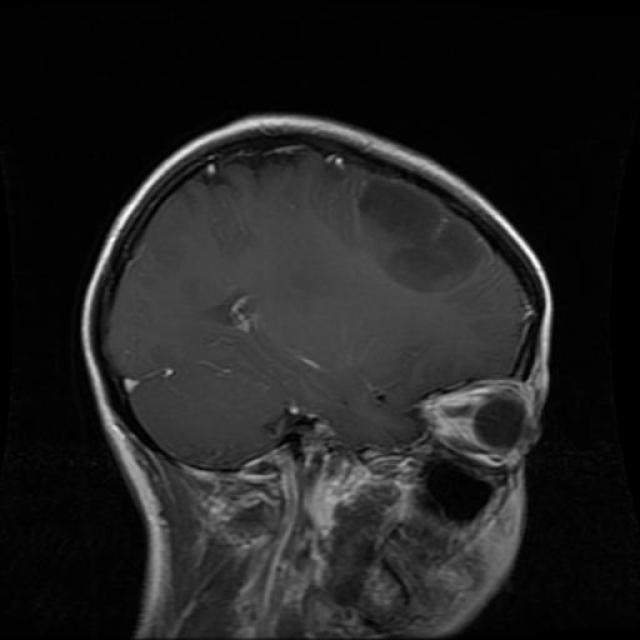glioma: (354, 172, 492, 296)
